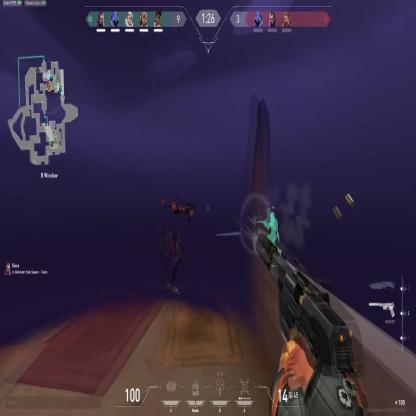enemy: (157, 181, 194, 299)
